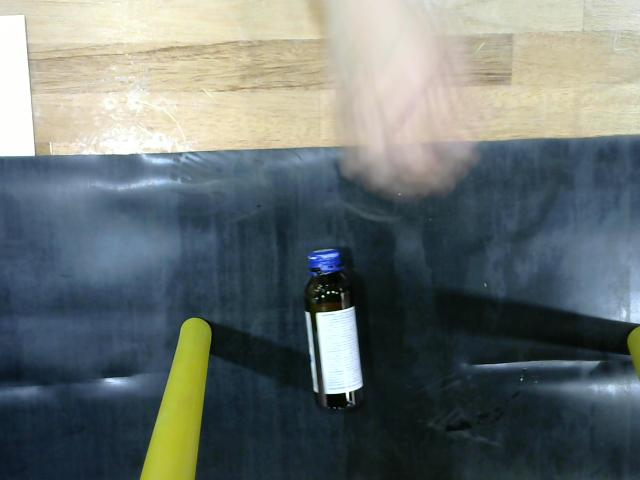glass: (299, 239, 370, 412)
